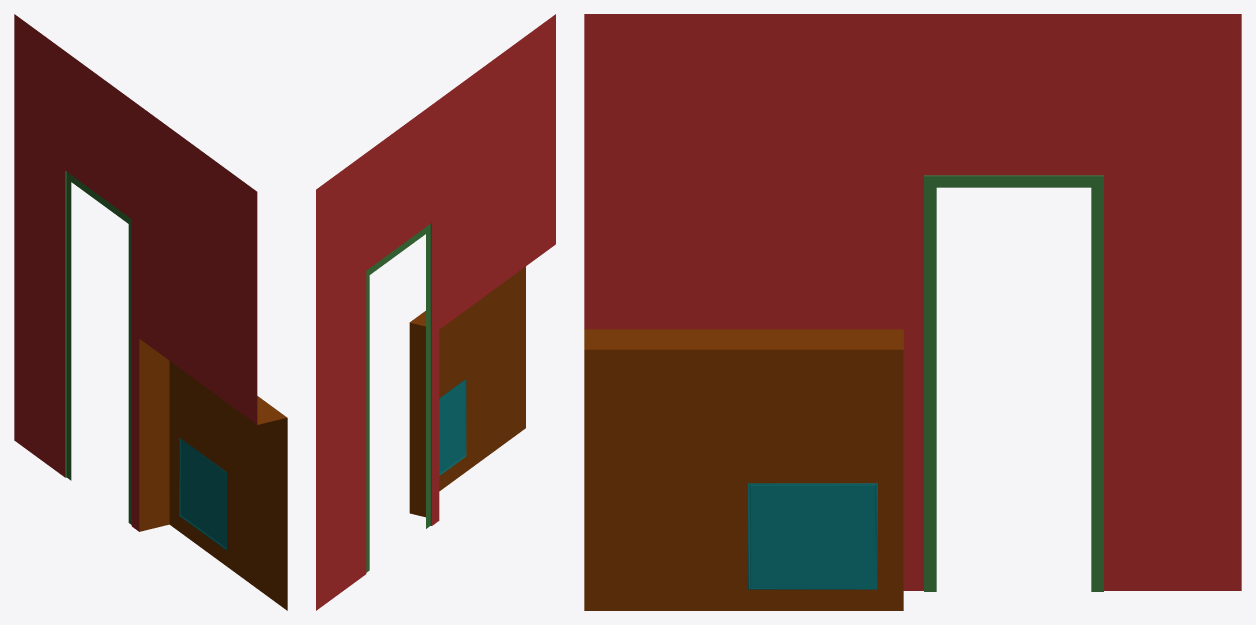
The model's file is SM_Wall_10.fbx.
3 renders of one model, left to right at view 1: azimuth 30°, elevation 25°; view 2: azimuth 150°, elevation 25°; view 3: azimuth 270°, elevation 25°, orthographic. The views are drawn at different scales.
Parts seen in each view (by area): view 1: SM_Wall_10; view 2: SM_Wall_10; view 3: SM_Wall_10.
Boxes of the visible parts, <box> form: SM_Wall_10: <box>14,14,287,610</box>; SM_Wall_10: <box>316,14,555,610</box>; SM_Wall_10: <box>584,14,1241,610</box>.
Size of the model in its own units: 22.87 by 306 by 316.
